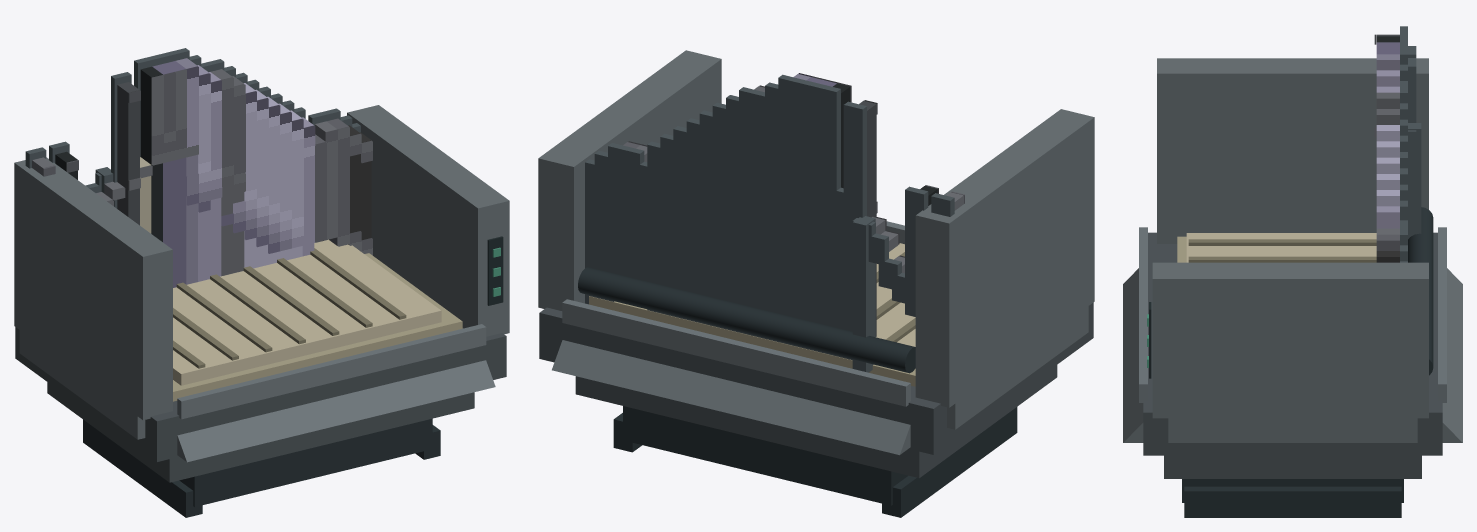
File: CMU3DHyperSleepChamberCloudSouth.glb
The picture shows the model from 3 angles, left to right: view 1: azimuth 30°, elevation 25°; view 2: azimuth 150°, elevation 25°; view 3: azimuth 270°, elevation 25°; orthographic projection. The views are drawn at different scales.
Visible parts, largest first — view 1: left heavy end cap, original open glass contour and sheen, right instrument end cap, patient pad, source-cut opened glass column (×12), near bevelled fascia, wide patient-bay base, recessed undercarriage, rim rail, lower cast chassis, left stepped rounded end, separate mattress channels (×6) (+4 smaller); view 2: solid lid frame behind glass (×22), left heavy end cap, right instrument end cap, far bevelled fascia, wide patient-bay base, recessed undercarriage, continuous rear hinge, rim rail, lower cast chassis, left stepped rounded end, cast support foot, mattress inset (+3 smaller); view 3: right instrument end cap, left heavy end cap, right stepped rounded end, wide patient-bay base, cast support foot, lower cast chassis, source-cut opened glass column (×9), patient pad, rim rail (×2), near bevelled fascia, far bevelled fascia, separate mattress channels (×2) (+4 smaller).
Part boxes in pixels (left/top/right/bottom): left heavy end cap: left=14, top=157, right=172, bottom=420; original open glass contour and sheen: left=128, top=66, right=372, bottom=255; right instrument end cap: left=347, top=105, right=509, bottom=336; patient pad: left=173, top=239, right=441, bottom=385; source-cut opened glass column (×12): left=117, top=58, right=371, bottom=287; near bevelled fascia: left=177, top=360, right=495, bottom=462; wide patient-bay base: left=15, top=327, right=506, bottom=461; recessed undercarriage: left=179, top=418, right=432, bottom=507; rim rail: left=177, top=324, right=486, bottom=419; lower cast chassis: left=47, top=382, right=474, bottom=482; left stepped rounded end: left=19, top=316, right=145, bottom=439; separate mattress channels (×6): left=173, top=248, right=406, bottom=360; solid lid frame behind glass (×22): left=585, top=74, right=928, bottom=359; left heavy end cap: left=915, top=109, right=1094, bottom=407; right instrument end cap: left=538, top=50, right=721, bottom=310; far bevelled fascia: left=552, top=340, right=910, bottom=455; wide patient-bay base: left=539, top=302, right=1093, bottom=454; recessed undercarriage: left=623, top=406, right=907, bottom=505; continuous rear hinge: left=578, top=267, right=915, bottom=373; rim rail: left=562, top=299, right=910, bottom=406; lower cast chassis: left=575, top=365, right=1057, bottom=478; left stepped rounded end: left=947, top=280, right=1088, bottom=429; cast support foot: left=882, top=407, right=1017, bottom=517; mattress inset: left=589, top=296, right=915, bottom=386; right instrument end cap: left=1152, top=262, right=1428, bottom=418; left heavy end cap: left=1157, top=58, right=1428, bottom=243; right stepped rounded end: left=1168, top=394, right=1417, bottom=442; wide patient-bay base: left=1143, top=232, right=1442, bottom=455; cast support foot: left=1184, top=486, right=1401, bottom=517; lower cast chassis: left=1164, top=455, right=1421, bottom=478; source-cut opened glass column (×9): left=1376, top=54, right=1399, bottom=250; patient pad: left=1186, top=233, right=1376, bottom=262; rim rail (×2): left=1139, top=227, right=1446, bottom=402; near bevelled fascia: left=1123, top=268, right=1143, bottom=442; far bevelled fascia: left=1442, top=268, right=1462, bottom=442; separate mattress channels (×2): left=1188, top=239, right=1376, bottom=262.
Size of what is drawn, in the model's own units: 0.98 by 0.95 by 0.75.
Materials: 23 (2 with a texture image).
